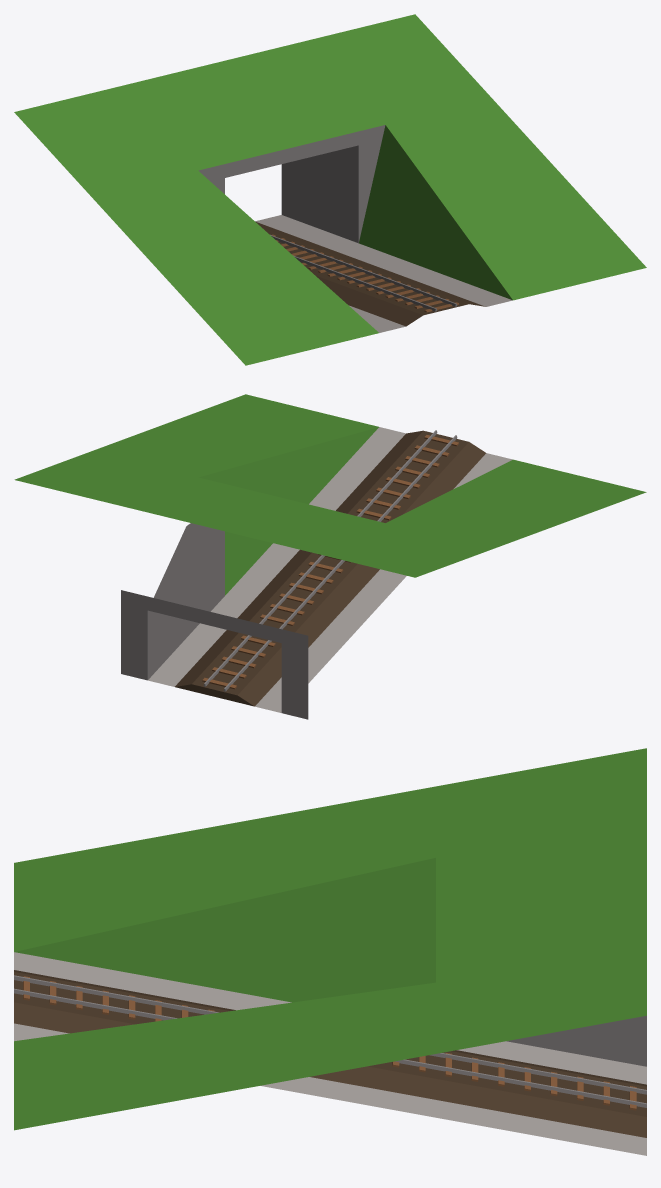
The model's file is tiles-nb-tile-rail-hill-tunnel-entrance-nb.glb.
3 renders of one model, top to bottom at view 1: azimuth 30°, elevation 25°; view 2: azimuth 150°, elevation 25°; view 3: azimuth 270°, elevation 25°, orthographic. The views are drawn at different scales.
Parts seen in each view (by area): view 1: tile-rail-hill-tunnel-entrance-nb; view 2: tile-rail-hill-tunnel-entrance-nb; view 3: tile-rail-hill-tunnel-entrance-nb.
Part boxes in pixels (<box>): tile-rail-hill-tunnel-entrance-nb: <box>14,14,646,365</box>; tile-rail-hill-tunnel-entrance-nb: <box>14,394,646,719</box>; tile-rail-hill-tunnel-entrance-nb: <box>14,748,646,1155</box>.
Bounding box in the file's own units: 30 × 12 × 30.
